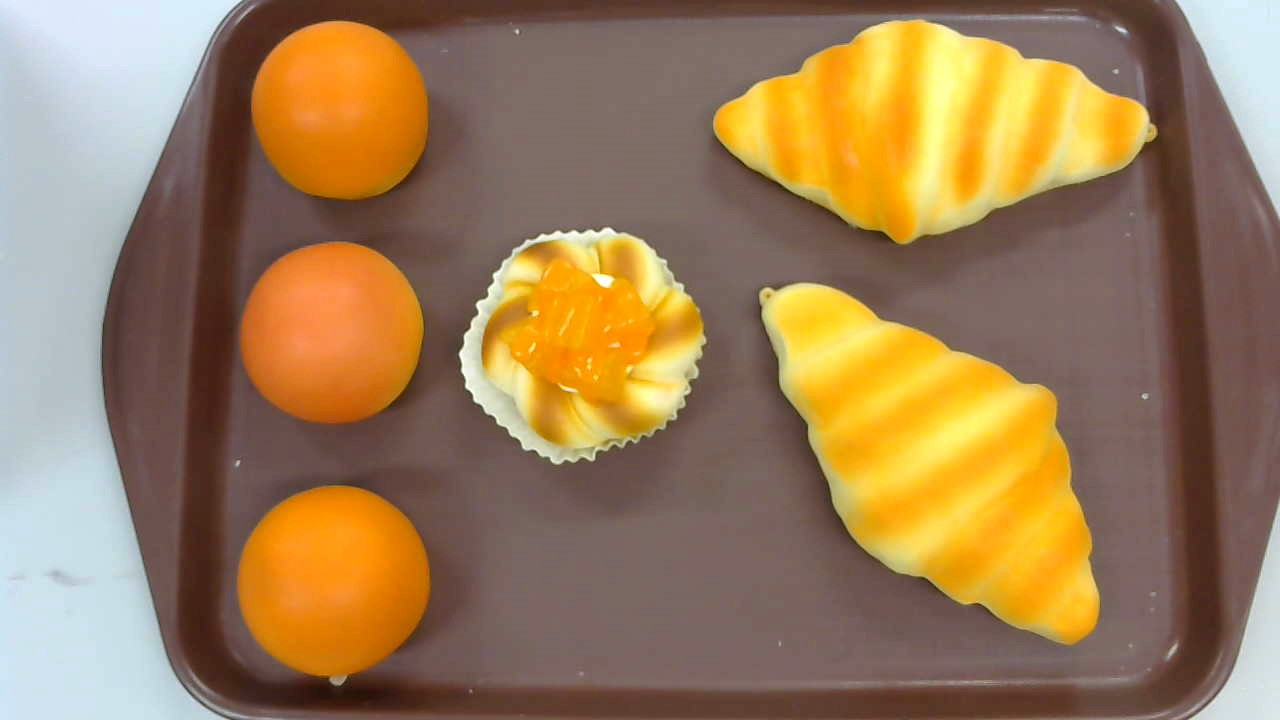bun: (235, 486, 431, 678), (237, 241, 424, 425), (250, 19, 429, 200)
croissant: (758, 279, 1101, 646), (713, 18, 1156, 247)
mango tart: (458, 226, 708, 466)
